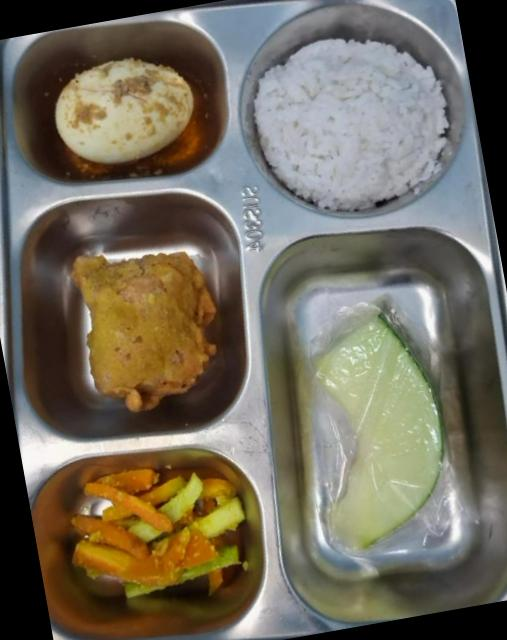buah: (315, 313, 443, 550)
nasi: (253, 39, 447, 210)
sayur: (109, 468, 226, 598), (96, 492, 234, 601), (191, 498, 244, 538), (129, 522, 162, 542)
tahu: (72, 253, 215, 411)
telur: (55, 59, 193, 165)
